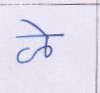e_matra: (20, 19, 48, 34)
